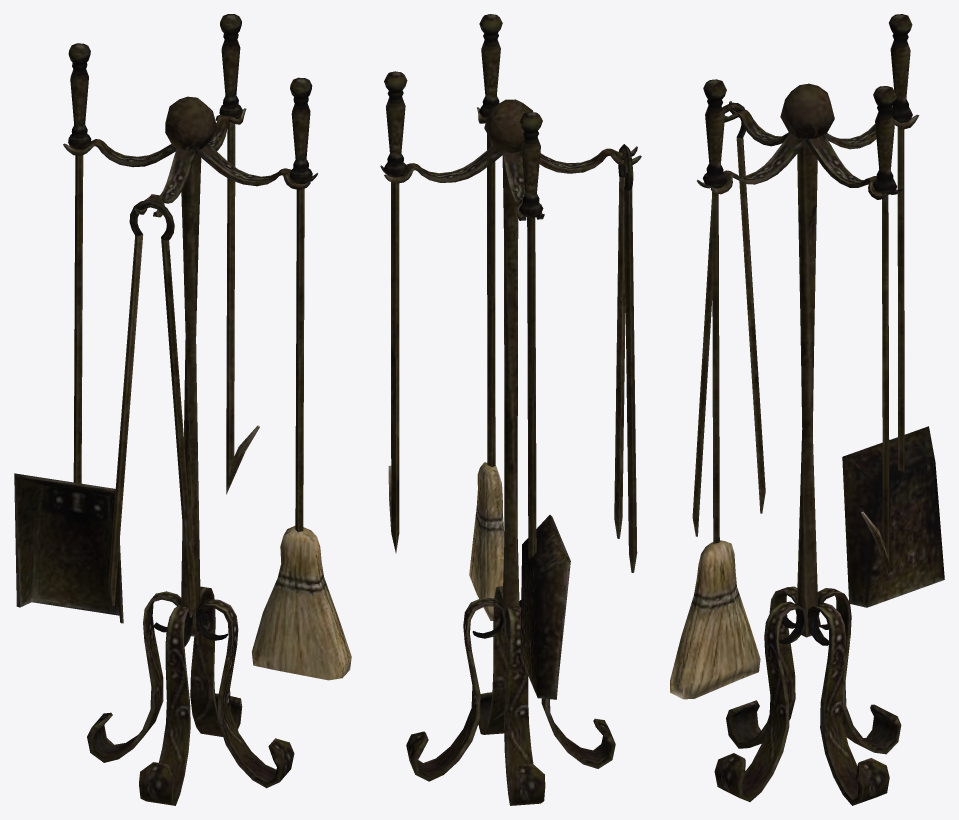
The model's file is item_fireplace_tools.fbx.
3 views of the same model, side by side, from view 1: azimuth 30°, elevation 25°; view 2: azimuth 150°, elevation 25°; view 3: azimuth 270°, elevation 25° (orthographic). The views are drawn at different scales.
Parts seen in each view (by area): view 1: item_fireplace_tools; view 2: item_fireplace_tools; view 3: item_fireplace_tools.
Boxes of the visible parts, x1=… form: item_fireplace_tools: x1=14, y1=14, x2=351, y2=805; item_fireplace_tools: x1=380, y1=14, x2=641, y2=805; item_fireplace_tools: x1=670, y1=14, x2=944, y2=805.
Size of the model in its own units: 51.2 by 159 by 54.55.
Materials: 1 (1 with a texture image).
